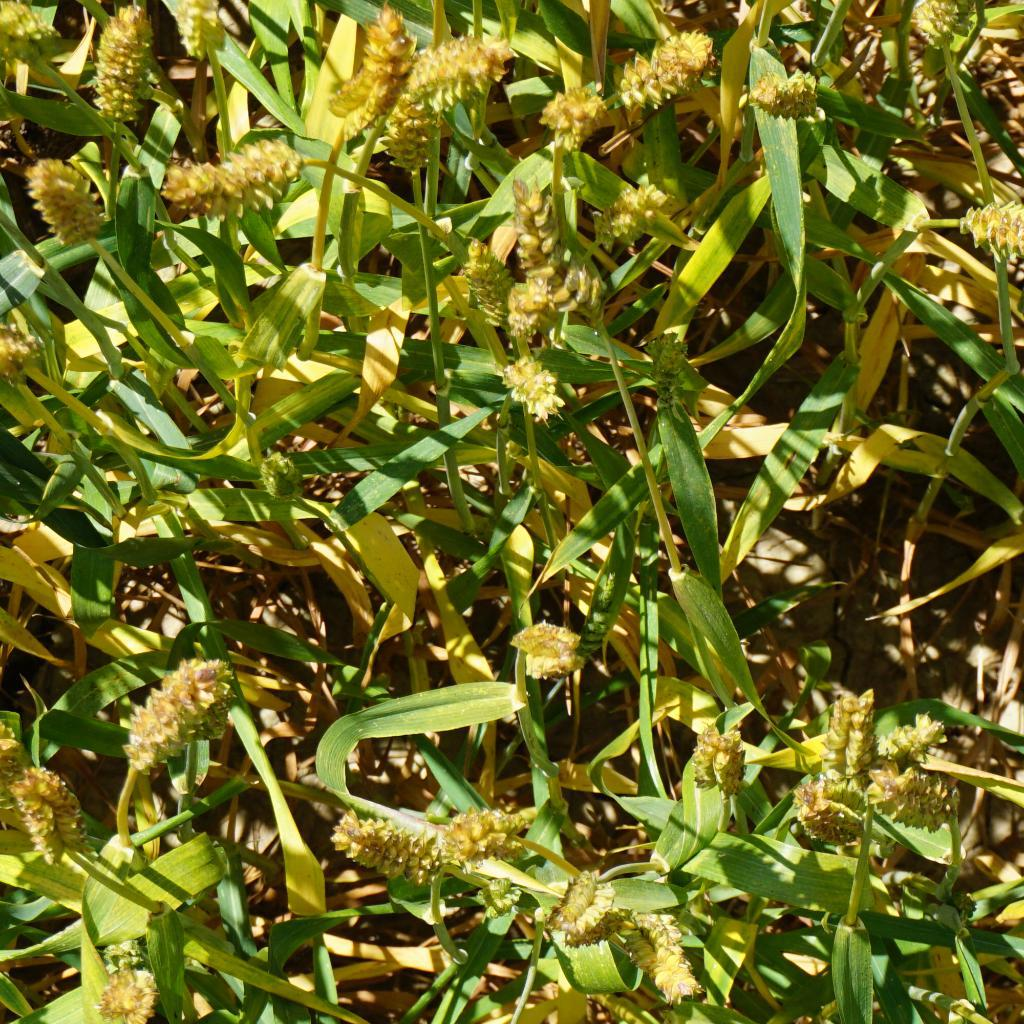0-0: (314, 0, 420, 145), (159, 129, 307, 218), (77, 0, 156, 135), (22, 147, 110, 256), (403, 34, 510, 117), (19, 758, 94, 867), (617, 27, 712, 110), (326, 806, 424, 885), (620, 915, 702, 1008), (126, 668, 201, 760), (870, 763, 965, 834), (813, 685, 879, 778), (510, 173, 573, 270), (448, 788, 521, 868), (536, 78, 611, 155), (512, 614, 584, 694), (686, 716, 753, 801), (167, 0, 245, 69), (386, 85, 446, 174), (498, 340, 567, 415), (598, 179, 671, 249), (641, 329, 706, 406), (955, 195, 1024, 265), (747, 58, 825, 118), (870, 709, 954, 763), (573, 568, 619, 663), (486, 262, 542, 334), (457, 228, 502, 316), (0, 0, 57, 66), (249, 441, 308, 503), (177, 689, 233, 754), (790, 780, 861, 831), (97, 968, 164, 1022), (460, 864, 522, 920), (569, 864, 617, 930), (553, 265, 617, 314), (0, 716, 33, 811), (908, 0, 962, 58), (0, 320, 46, 374), (95, 934, 155, 974), (207, 1006, 287, 1024)
